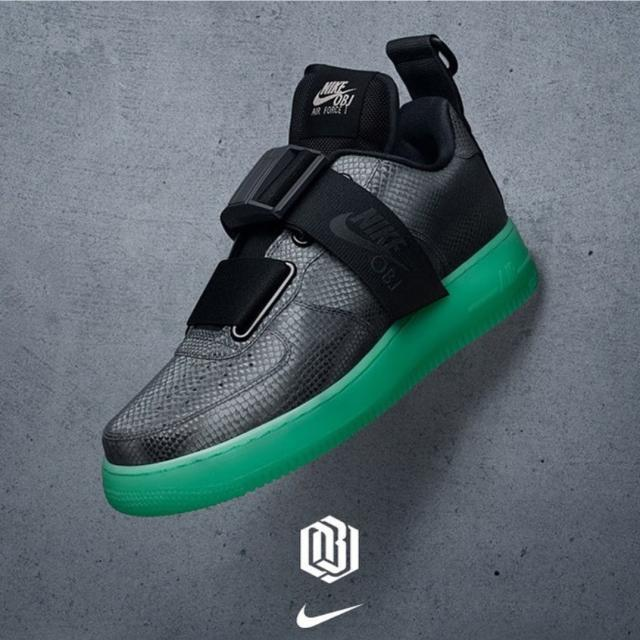shoe: (94, 14, 554, 510)
